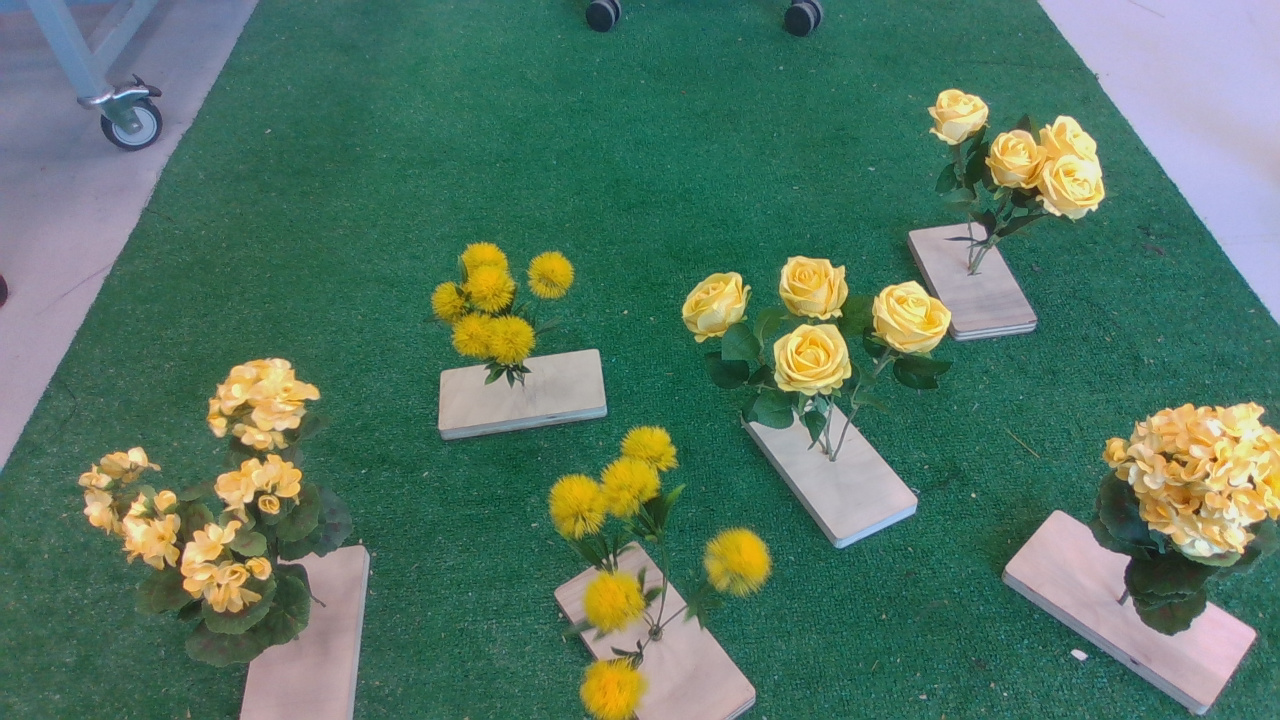dandelion: (548, 432, 785, 720), (423, 243, 591, 392)
geranium: (76, 355, 357, 677), (1079, 402, 1280, 644)
rose: (674, 247, 964, 434), (911, 87, 1118, 230)
